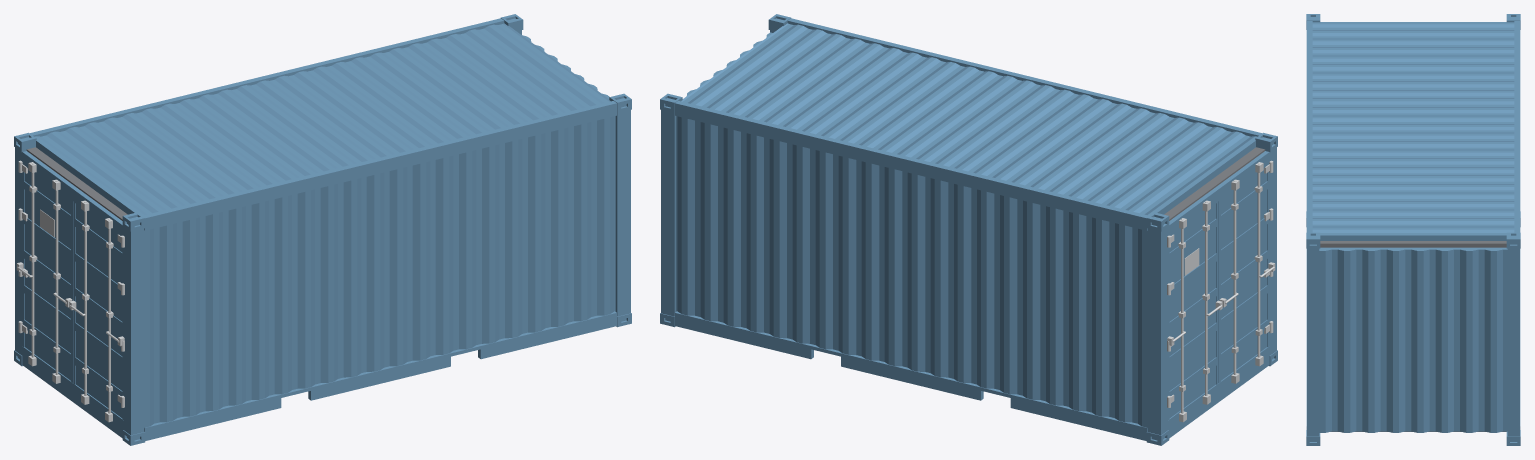
The model's file is Shipping_Container_20ft.glb.
3 renders of one model, left to right at view 1: azimuth 30°, elevation 25°; view 2: azimuth 150°, elevation 25°; view 3: azimuth 270°, elevation 25°, orthographic. The views are drawn at different scales.
Visible parts, largest first — view 1: corner_castings, locking_bars, core; view 2: corner_castings, locking_bars, core; view 3: corner_castings, core.
Part boxes in pixels (<box>): corner_castings: <box>14,14,631,445</box>; locking_bars: <box>16,160,124,422</box>; core: <box>26,147,127,220</box>; corner_castings: <box>660,14,1277,445</box>; locking_bars: <box>1167,160,1275,422</box>; core: <box>1164,147,1265,220</box>; corner_castings: <box>1306,14,1520,445</box>; core: <box>1320,241,1506,431</box>.
Bounding box in the file's own units: 122 × 51.81 × 48.75.
